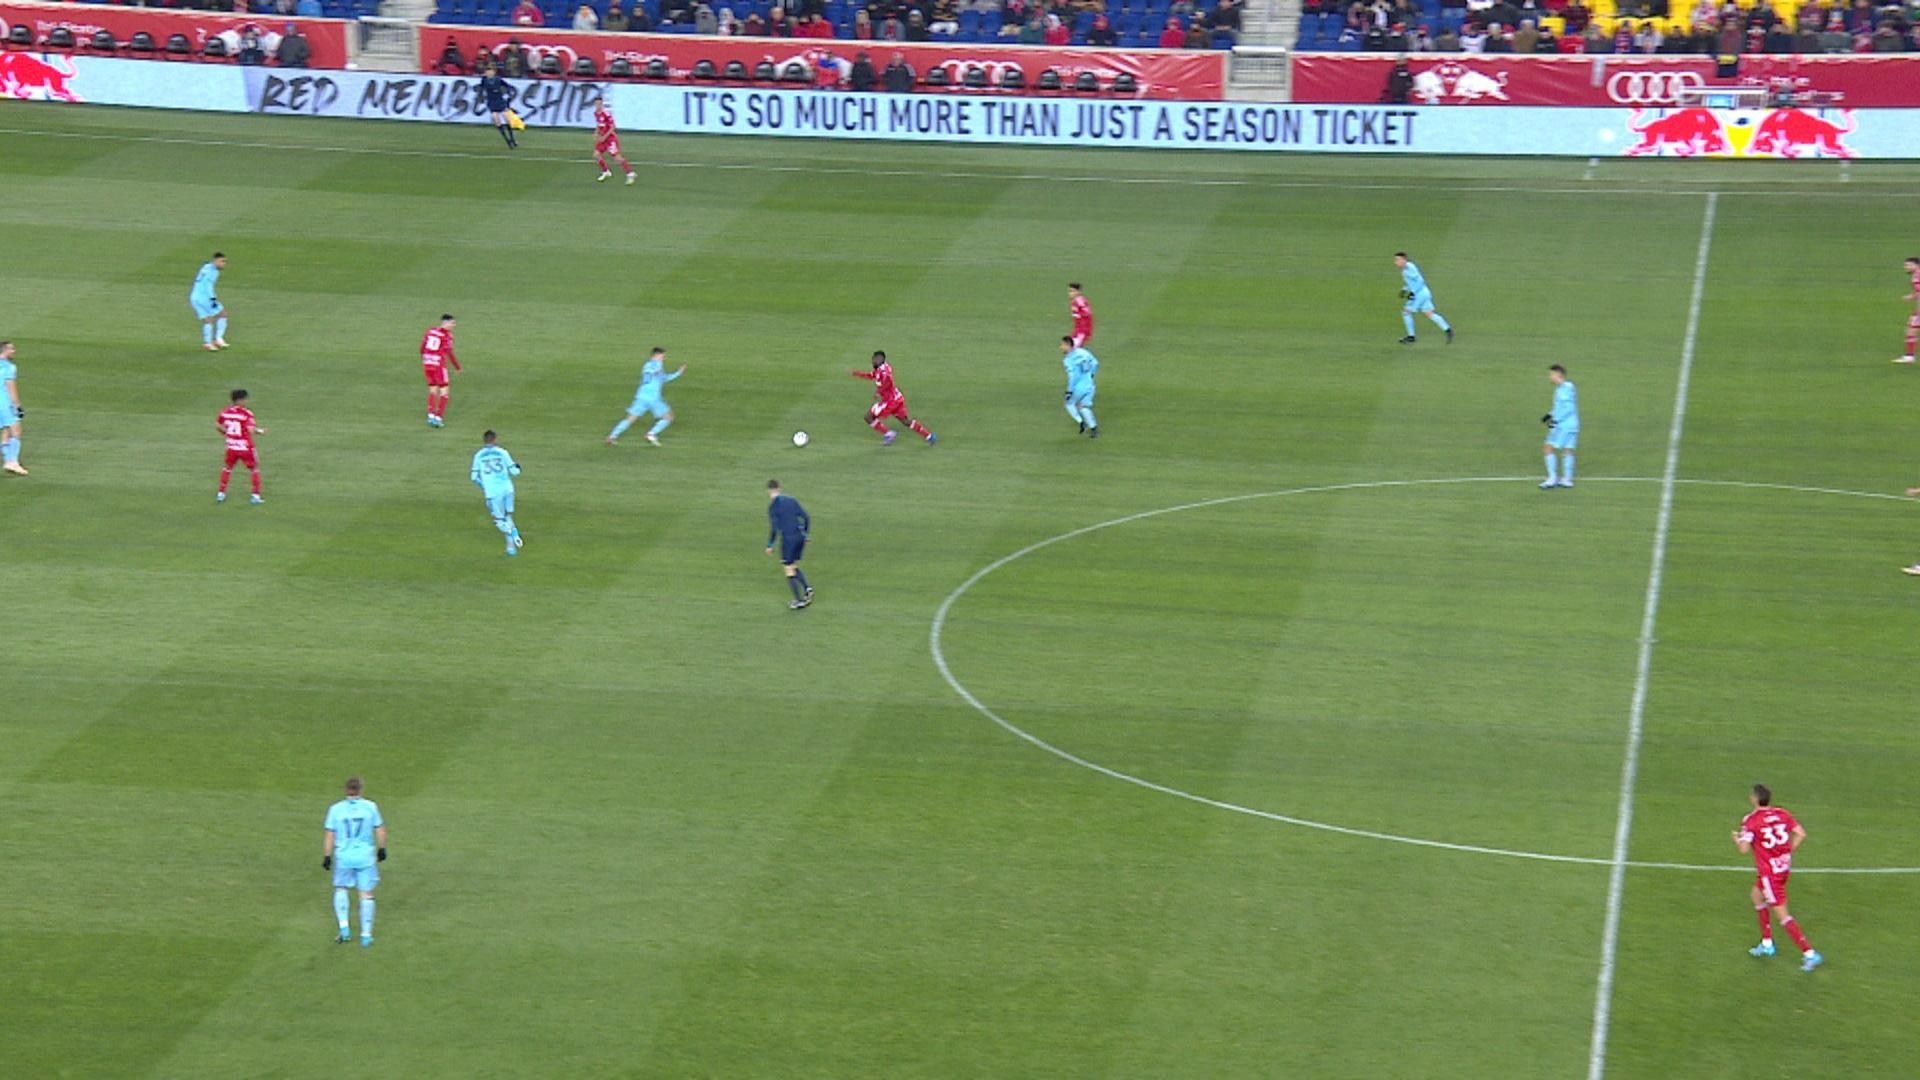football: (791, 430, 810, 448)
